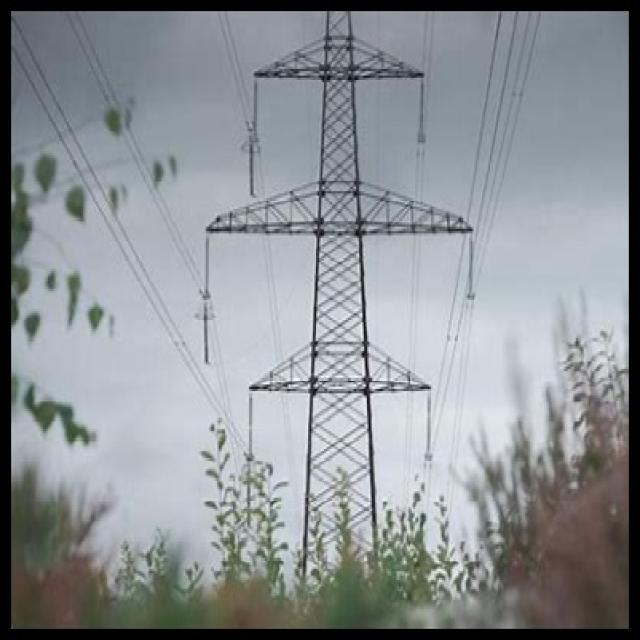utility poles: (196, 372, 498, 625)
